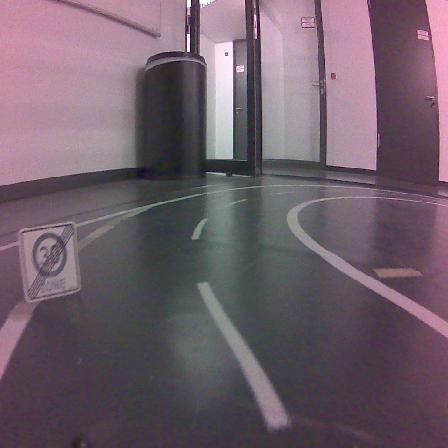30_ZONE_END: (18, 222, 80, 303)
